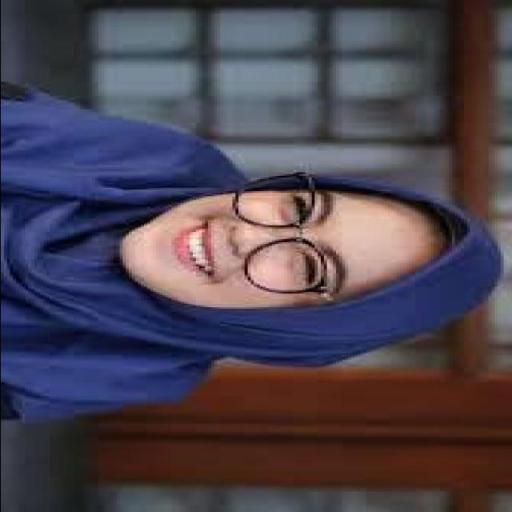glasses: (222, 169, 350, 299)
